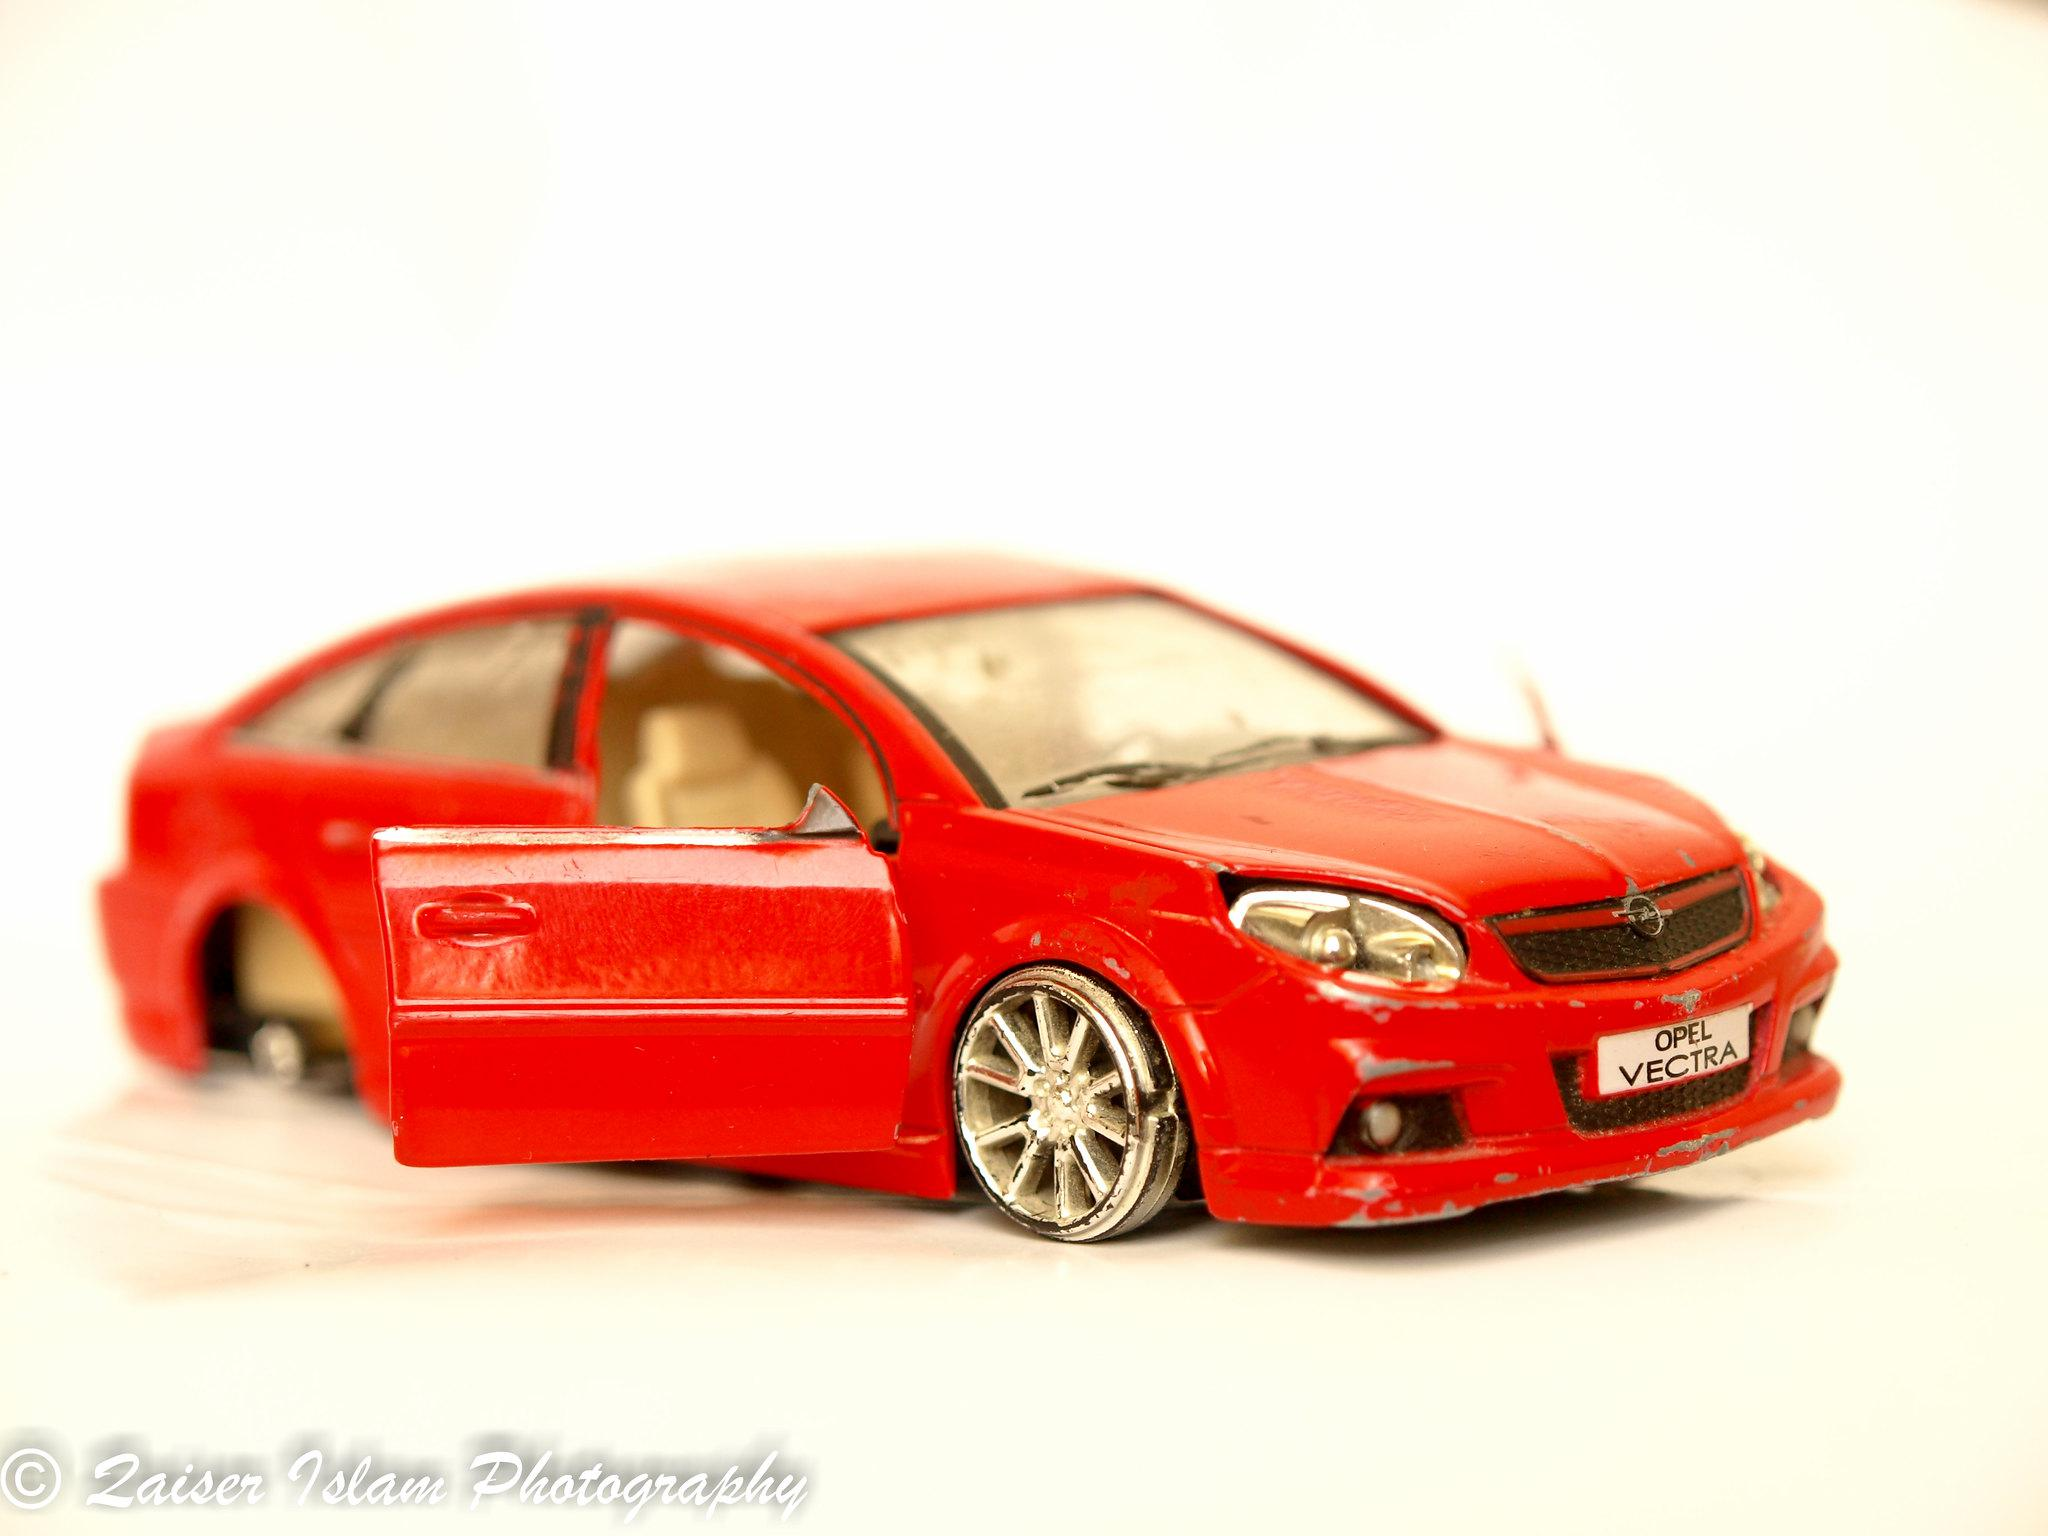fender-dent: (910, 842, 1292, 1034)
front-bumper-dent: (1288, 950, 1813, 1218)
